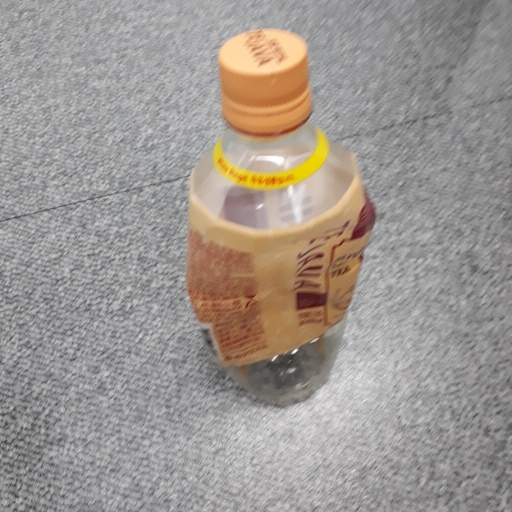Plastic_0: (184, 30, 375, 406)
